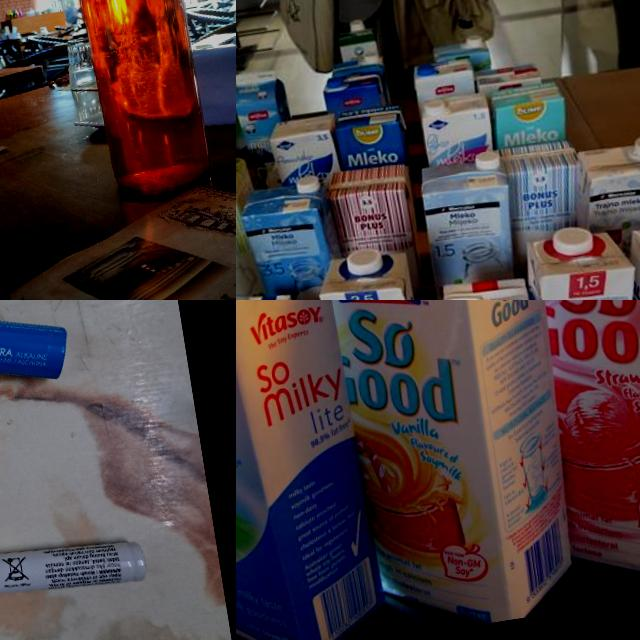bateria: (0, 529, 150, 607), (0, 300, 75, 407)
caixinha: (313, 300, 596, 639), (236, 300, 387, 640), (498, 300, 640, 604), (416, 148, 522, 286), (500, 138, 596, 269), (240, 180, 344, 300), (512, 225, 640, 300), (322, 160, 418, 258), (564, 137, 640, 237), (312, 247, 436, 300), (417, 89, 498, 167), (485, 77, 570, 150), (236, 143, 273, 300), (266, 112, 344, 186), (330, 102, 412, 172), (236, 67, 296, 155), (440, 270, 547, 300), (321, 66, 386, 115), (602, 217, 640, 300), (411, 56, 477, 102), (432, 37, 491, 75), (475, 61, 546, 92), (336, 24, 380, 61), (236, 47, 251, 155)
garrafa de vidro: (51, 0, 212, 203)
tampa plástica: (550, 224, 594, 258), (345, 244, 384, 276), (473, 150, 500, 172), (422, 98, 448, 116), (417, 62, 436, 76), (326, 75, 344, 89), (464, 33, 482, 47), (631, 132, 640, 159), (348, 18, 365, 30)
